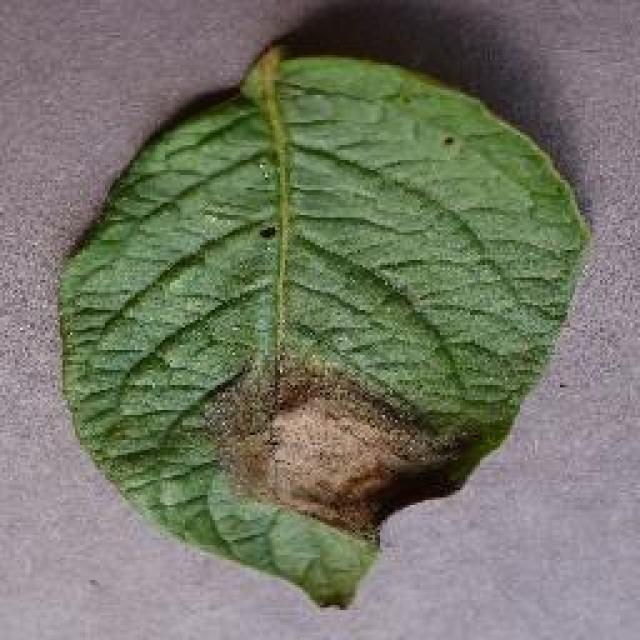Late_blight: (166, 341, 456, 544)
